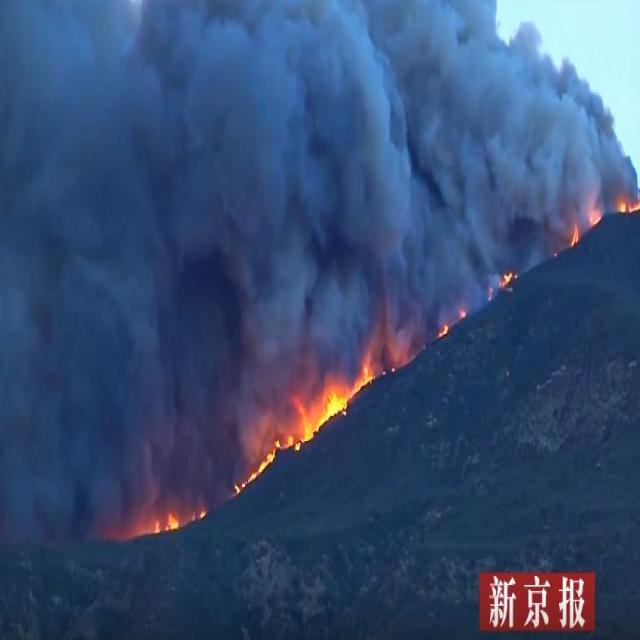Fire: (299, 386, 346, 439), (154, 508, 192, 530)
Smoke: (8, 8, 486, 236)
